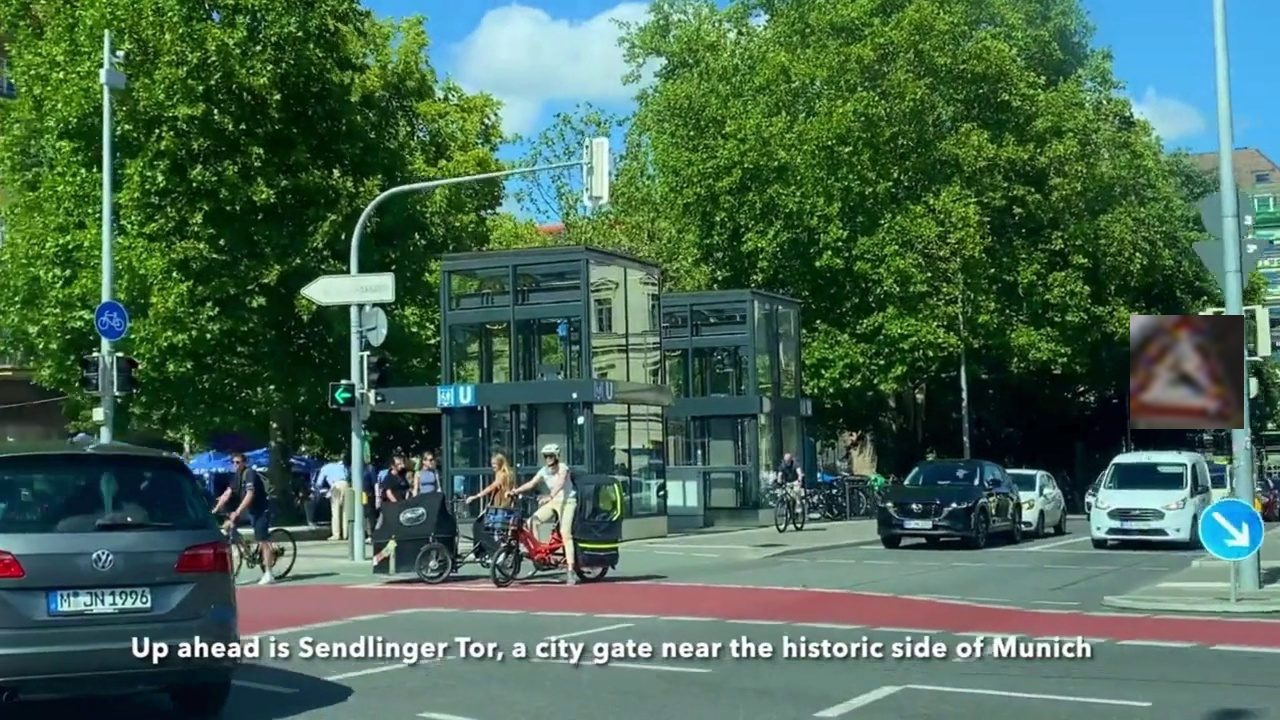Wild animals: (1130, 315, 1244, 429)
